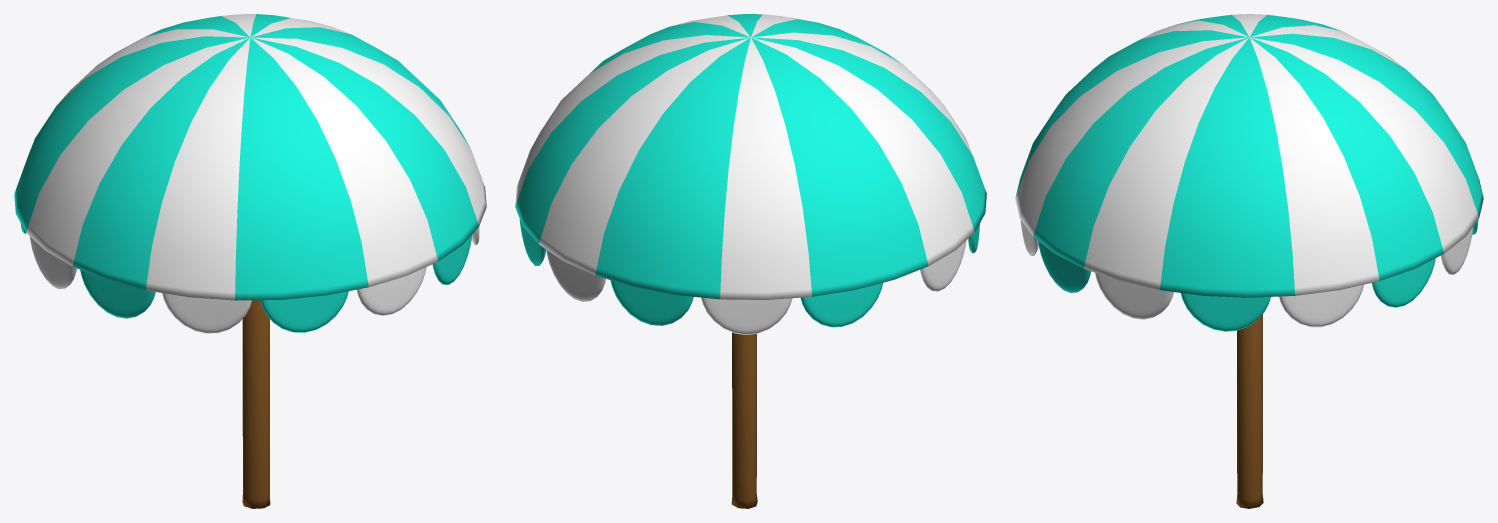
Rendered from SM_Sonnenshirm.fbx.
3 views of the same model, side by side, from view 1: azimuth 30°, elevation 25°; view 2: azimuth 150°, elevation 25°; view 3: azimuth 270°, elevation 25° (orthographic).
Parts seen in each view (by area): view 1: Sonnenshirm.001; view 2: Sonnenshirm.001; view 3: Sonnenshirm.001.
Boxes of the visible parts, x1,y1,x2,y2 form: Sonnenshirm.001: [14, 14, 486, 508]; Sonnenshirm.001: [515, 14, 986, 508]; Sonnenshirm.001: [1015, 14, 1483, 508].
Size of the model in its own units: 196 by 214 by 196.
